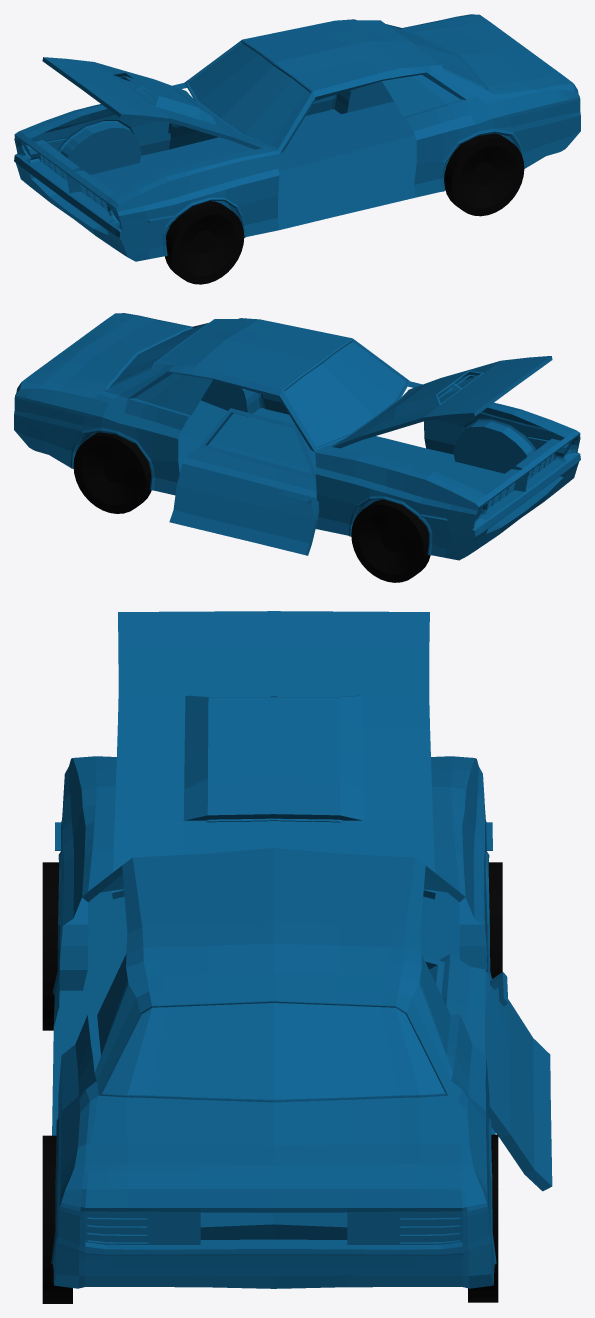
File: CarCrash_3.fbx
3 renders of one model, top to bottom at view 1: azimuth 30°, elevation 25°; view 2: azimuth 150°, elevation 25°; view 3: azimuth 270°, elevation 25°, orthographic. The views are drawn at different scales.
Visible parts, largest first — view 1: Cube.005, Cube.008, Cylinder.007, Cylinder.006, Cardoor.001, Cube.006; view 2: Cube.005, Cardoor.001, Cube.008, Cylinder.004, Cylinder.005, Cube.006; view 3: Cube.005, Cube.008, Cardoor.001, Cube.007, Cylinder.006, Cylinder.007, Cylinder.004, Cylinder.005.
Part boxes in pixels (left/top/right/bottom): Cube.005: left=14, top=14, right=580, bottom=261; Cube.008: left=42, top=57, right=262, bottom=149; Cylinder.007: left=444, top=133, right=524, bottom=216; Cylinder.006: left=165, top=201, right=244, bottom=284; Cardoor.001: left=168, top=122, right=218, bottom=149; Cube.006: left=36, top=141, right=112, bottom=209; Cube.005: left=14, top=313, right=580, bottom=560; Cardoor.001: left=169, top=408, right=319, bottom=555; Cube.008: left=332, top=356, right=552, bottom=448; Cylinder.004: left=351, top=499, right=430, bottom=582; Cylinder.005: left=73, top=432, right=151, bottom=513; Cube.006: left=482, top=440, right=557, bottom=508; Cube.005: left=51, top=756, right=496, bottom=1288; Cube.008: left=112, top=611, right=435, bottom=899; Cardoor.001: left=423, top=954, right=552, bottom=1191; Cube.007: left=85, top=1211, right=462, bottom=1244; Cylinder.006: left=42, top=862, right=59, bottom=1030; Cylinder.007: left=42, top=1135, right=72, bottom=1303; Cylinder.004: left=488, top=862, right=502, bottom=978; Cylinder.005: left=468, top=1134, right=498, bottom=1302.
Bounding box in the file's own units: 631 × 223 × 299.
